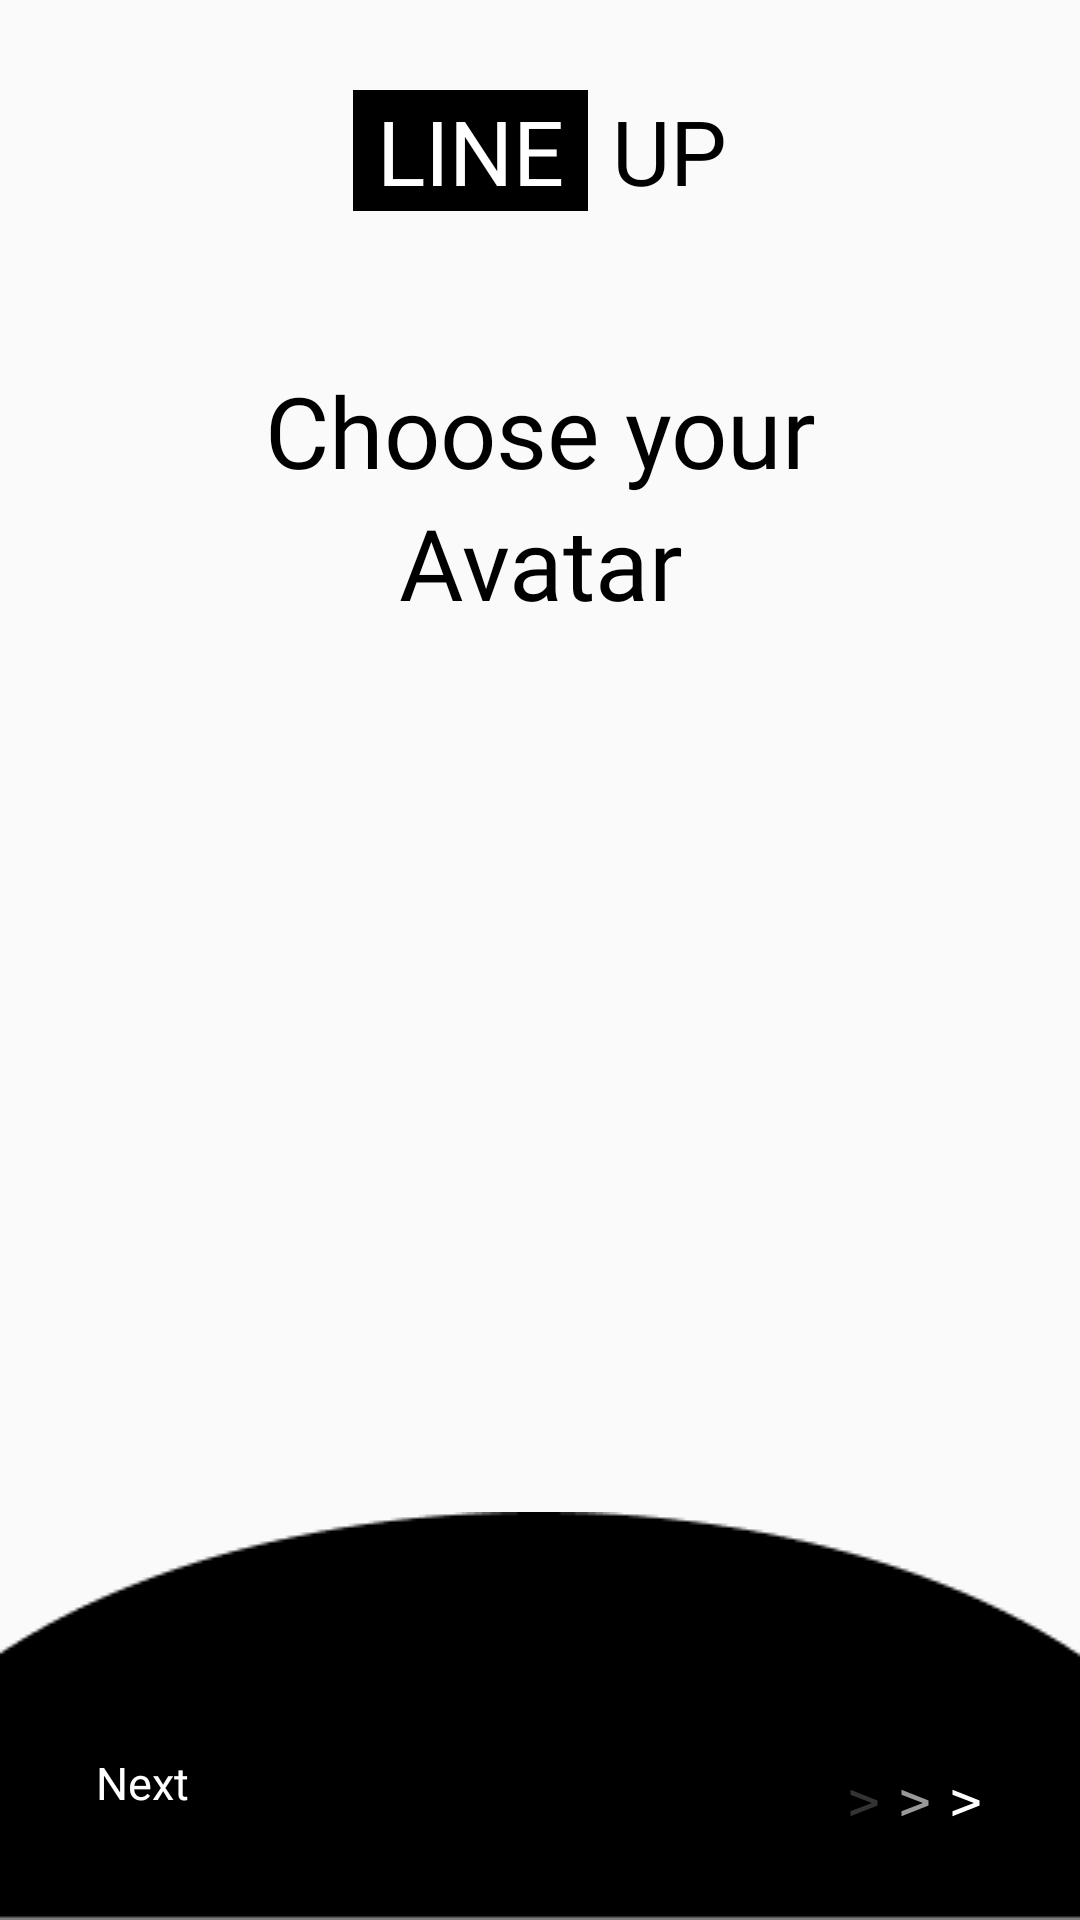

Icon bounding boxes for this 1080x1920 phone screenshot, format [left=x1, top=y1, right=x2, bottom=y2]:
next arrow: [left=850, top=1790, right=980, bottom=1816]
